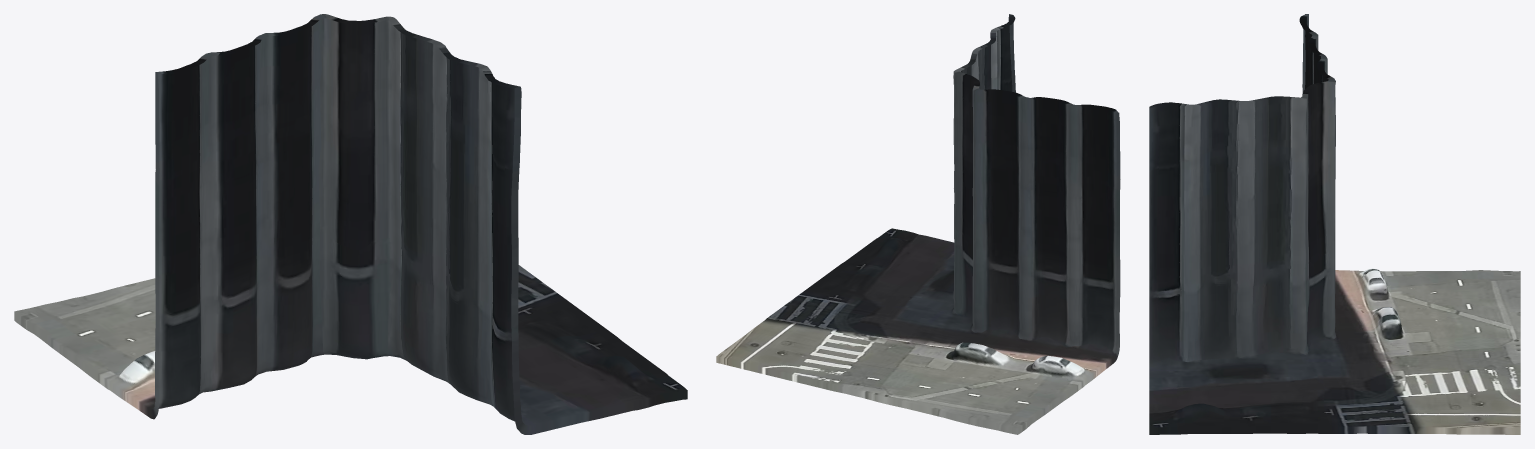
File: z20-167779-405228-h0-yup-uvflip-v3-world.glb
The picture shows the model from 3 angles, left to right: view 1: azimuth 30°, elevation 25°; view 2: azimuth 150°, elevation 25°; view 3: azimuth 270°, elevation 25°; orthographic projection. The views are drawn at different scales.
Size of the model in its own units: 30.16 by 23.88 by 30.32.
1 material, 1 textured.
